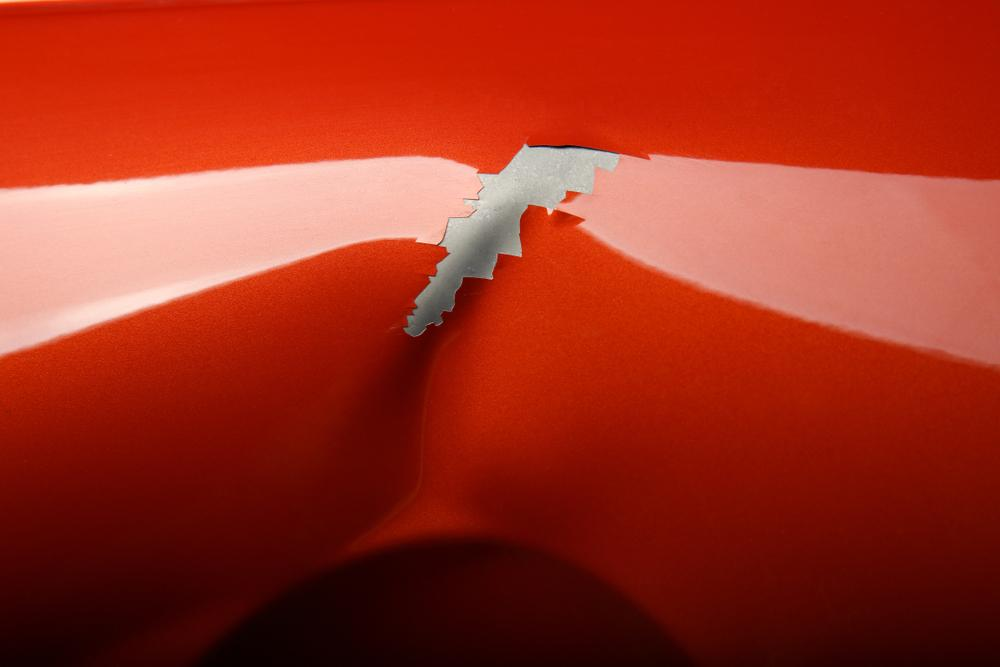dent: (325, 203, 578, 553)
